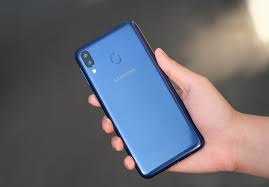samsung: (75, 15, 203, 181)
